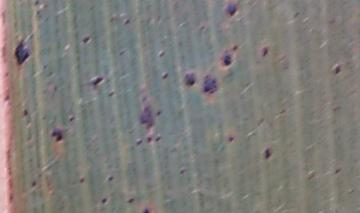tarspot: (11, 38, 33, 65), (200, 70, 222, 96), (137, 103, 156, 133), (182, 68, 198, 91), (47, 127, 67, 144), (223, 1, 240, 18), (220, 51, 233, 70), (330, 62, 345, 77), (89, 75, 106, 87), (262, 144, 273, 162), (258, 45, 272, 59), (80, 32, 92, 47), (105, 172, 117, 186), (65, 112, 77, 126), (157, 69, 172, 80), (124, 195, 137, 206), (157, 48, 168, 61), (2, 91, 12, 105), (224, 133, 236, 144), (152, 132, 163, 144), (144, 133, 153, 147), (99, 194, 109, 206), (27, 179, 39, 189), (105, 90, 117, 100), (21, 106, 30, 119), (133, 136, 143, 147), (122, 17, 133, 27), (77, 175, 87, 186), (140, 204, 152, 213), (333, 165, 341, 177), (177, 168, 188, 176), (155, 108, 163, 118), (231, 43, 241, 51)
